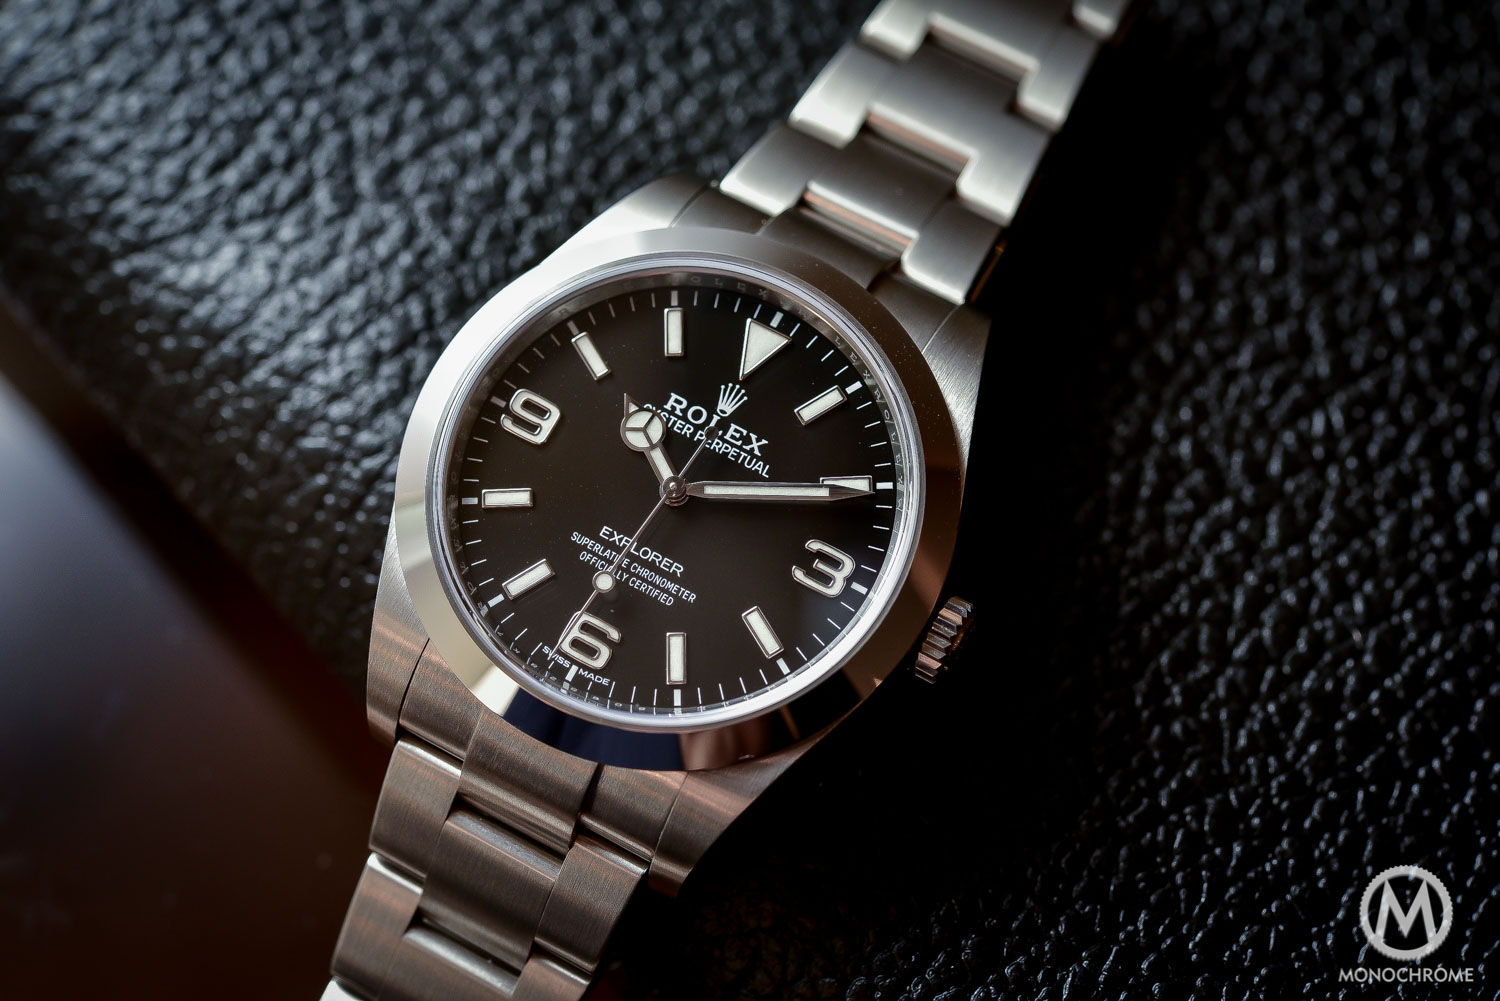clock: (440, 260, 908, 715)
